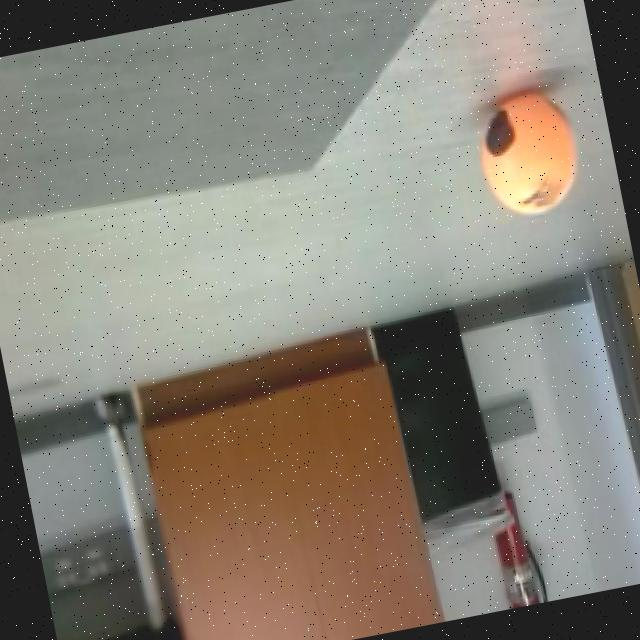ping-pong-ball: (466, 74, 596, 234)
